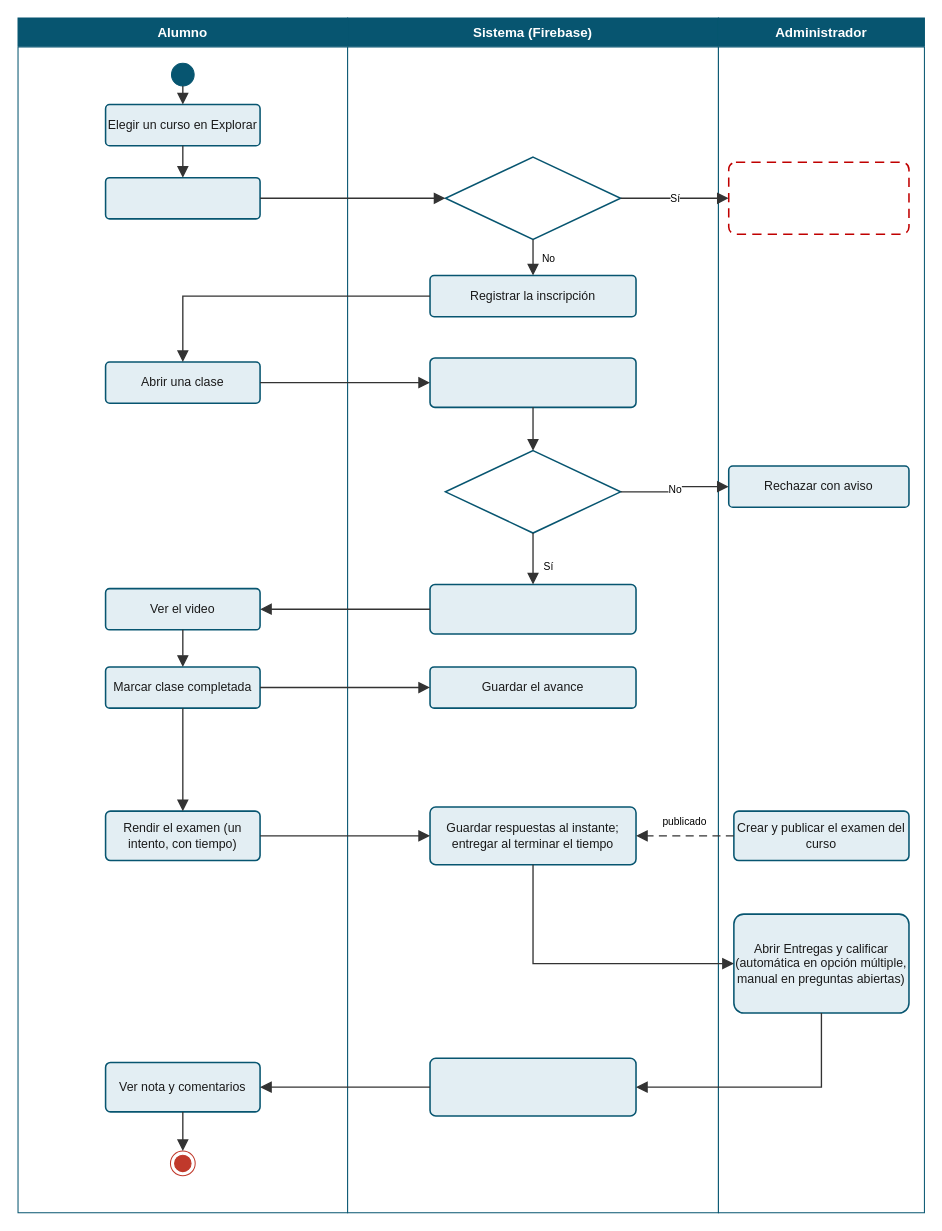
Image size: 942x1231. Some labels were removed from this diagram. Here are the shapes that lost their labels. From the top down, the centre of each, then its label:
At point 182,197: "Inscribirse".
At point 532,198: "¿Premium y plan gratis?".
At point 818,198: "Mostrar los planes (pago simulado; cobro con Culqi pendiente)".
At point 532,382: "Pedir el video a la función obtenerVideo".
At point 532,491: "¿Puede ver el video?".
At point 532,608: "SharePoint entrega un enlace temporal".
At point 532,1086: "Guardar nota y comentario; avisar al alumno en la campana".
